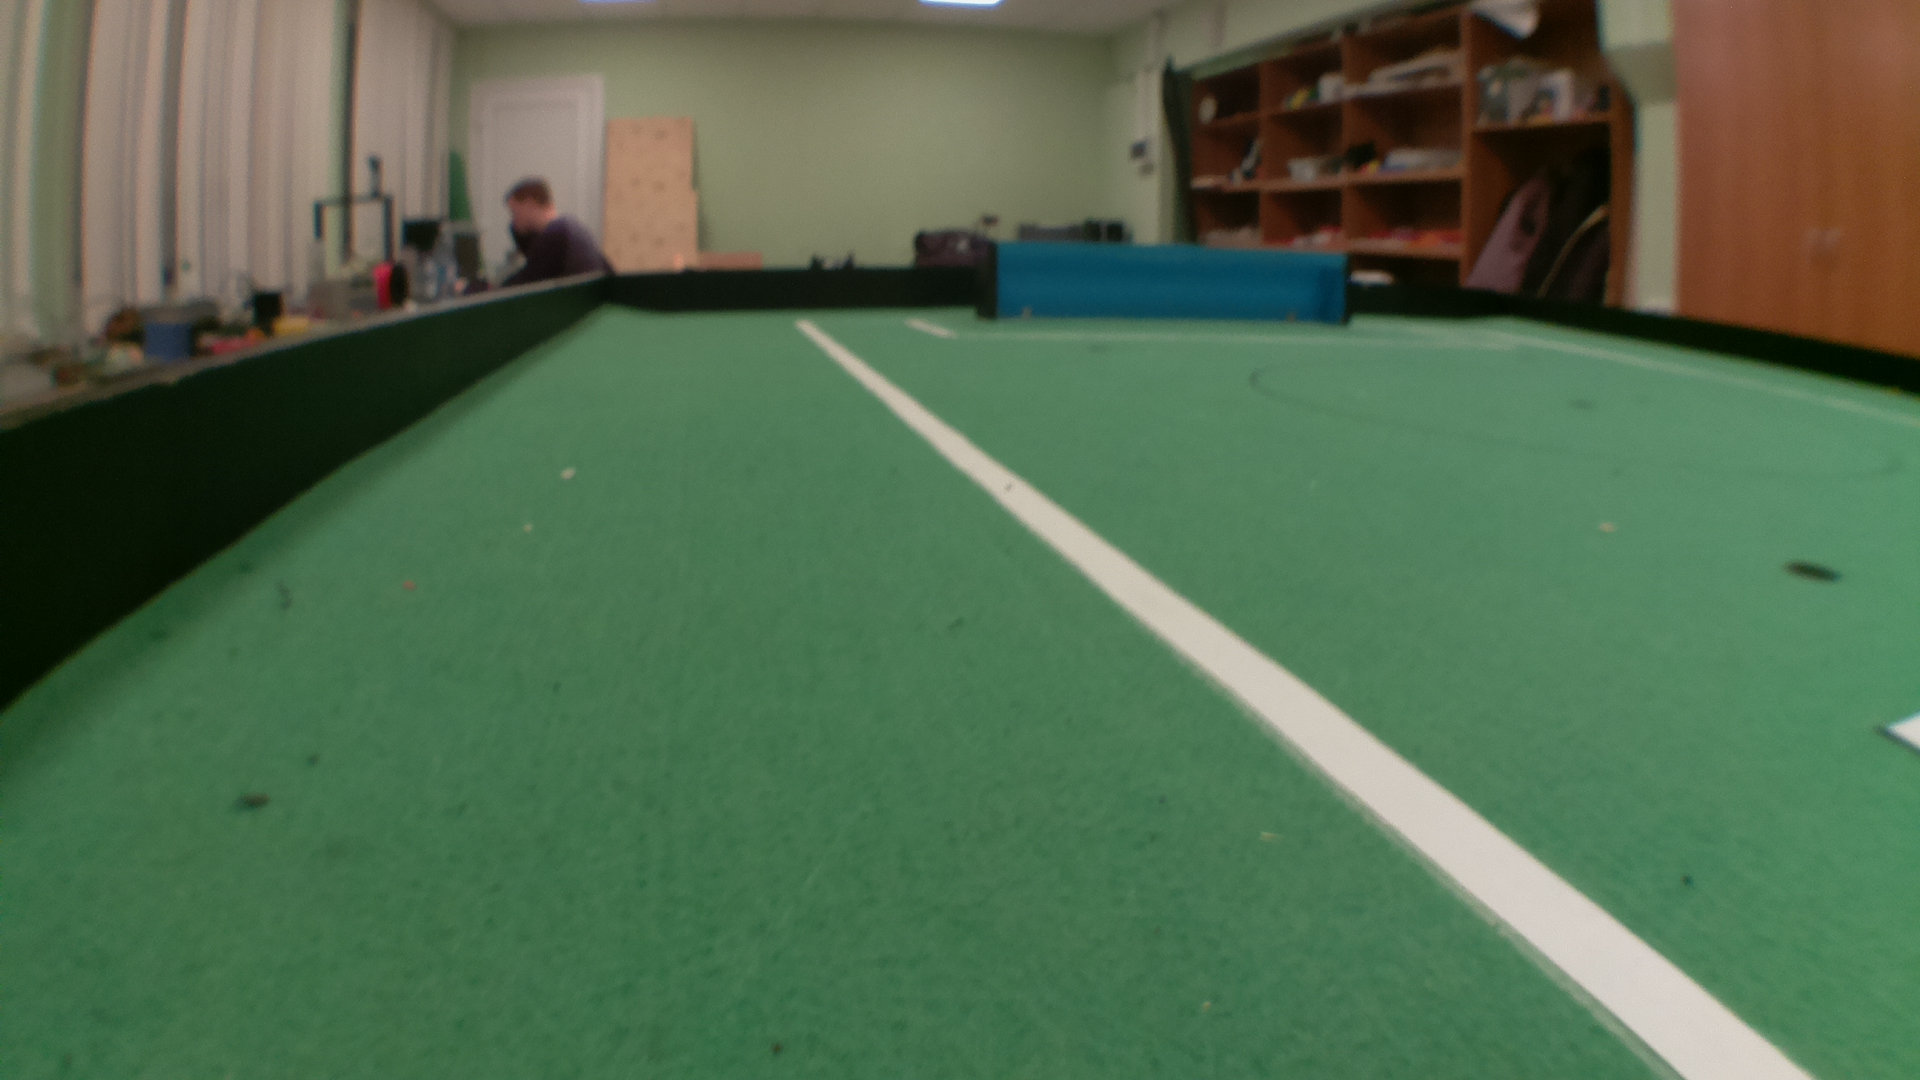BlueGoal: (996, 258, 1346, 319)
